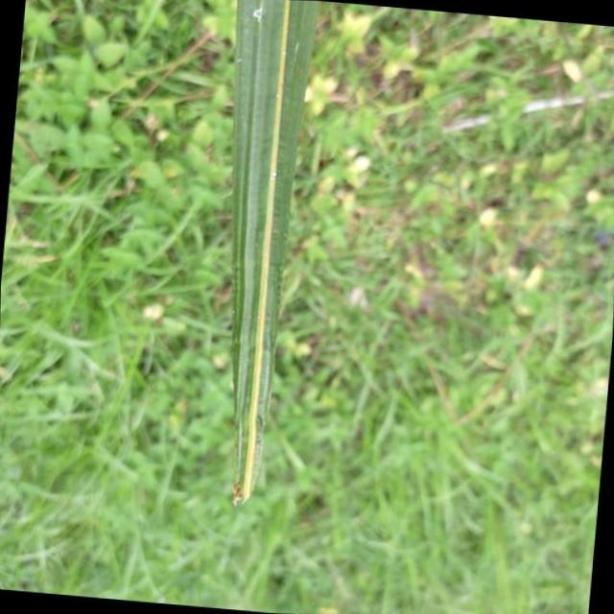Boron: (236, 0, 318, 505)
